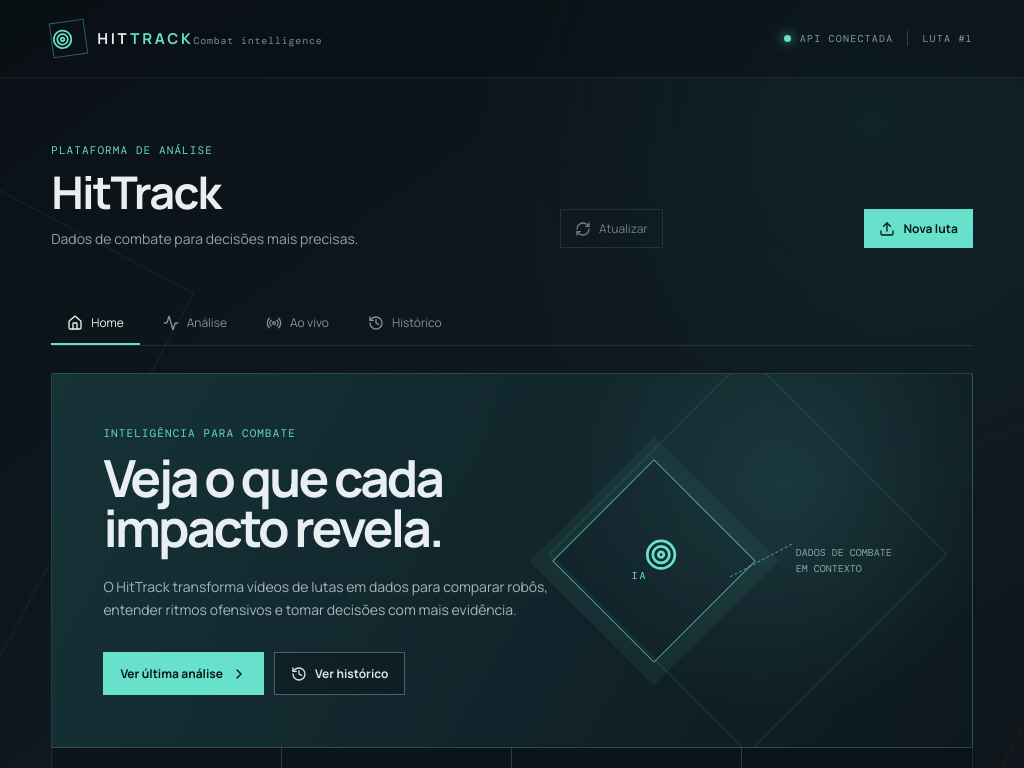
Scenario: HitTrack dashboard › opens history when no latest fight is available
Click the button "Ver última análise". click: (184, 674)
box: [103,652,264,695]
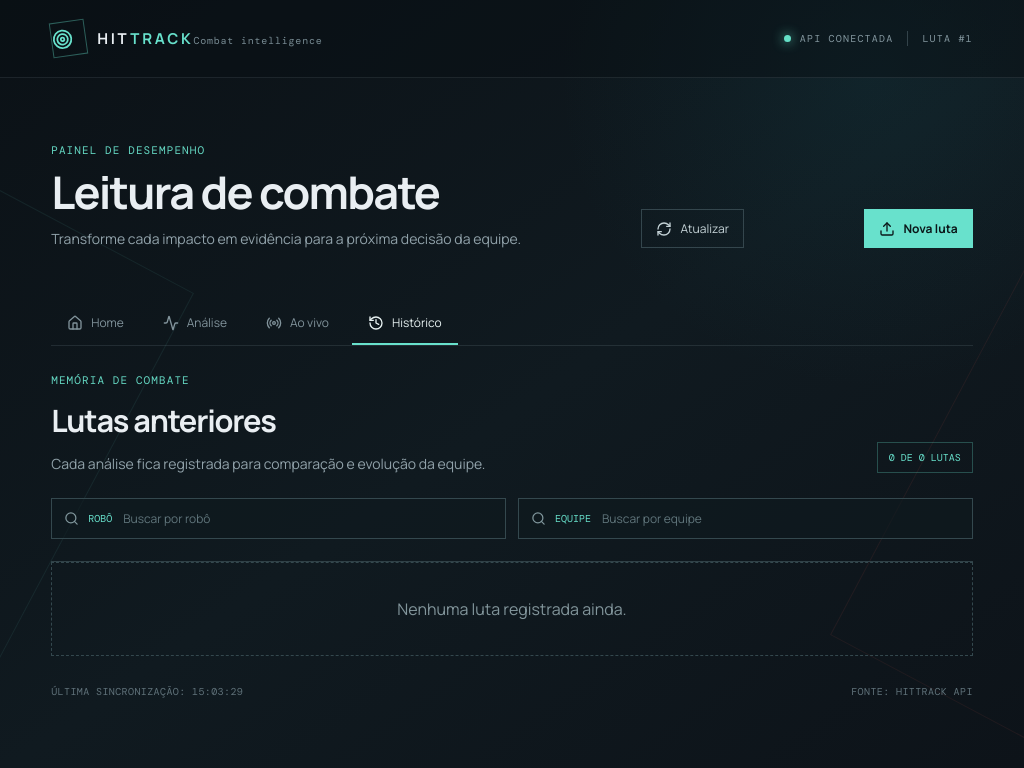
Now the heading "Lutas anteriores" is shown, box [51,399,276,441]
Now the text "0 de 0 lutas" is shown, box [877,442,973,473]
